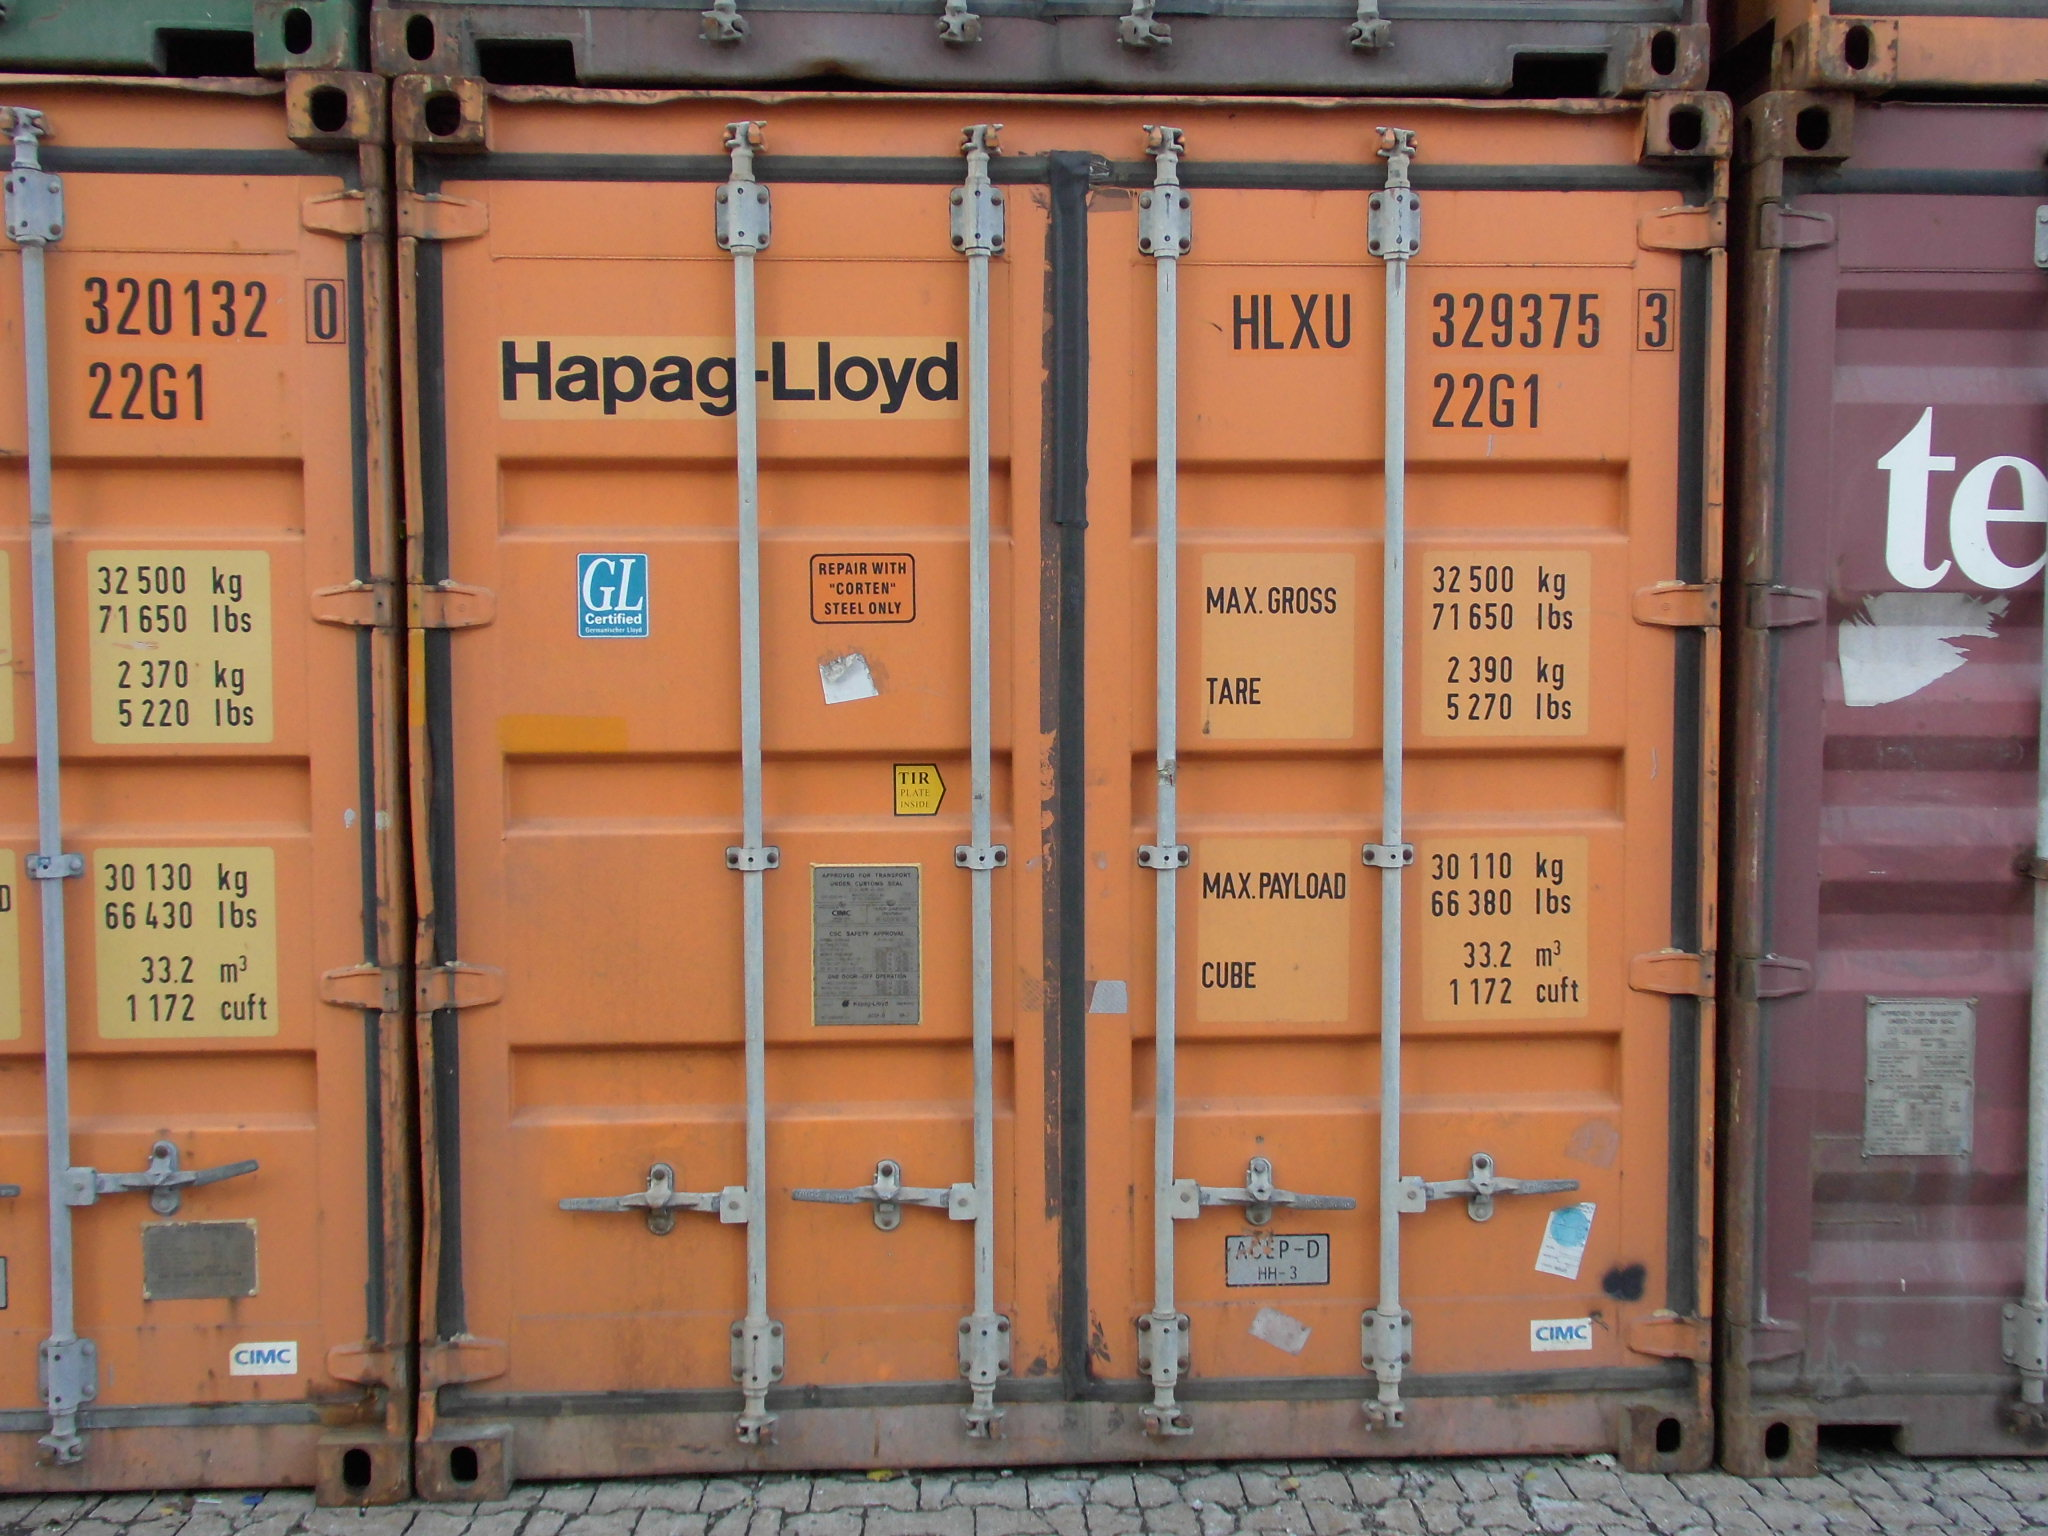container_door: (385, 65, 1738, 1475)
